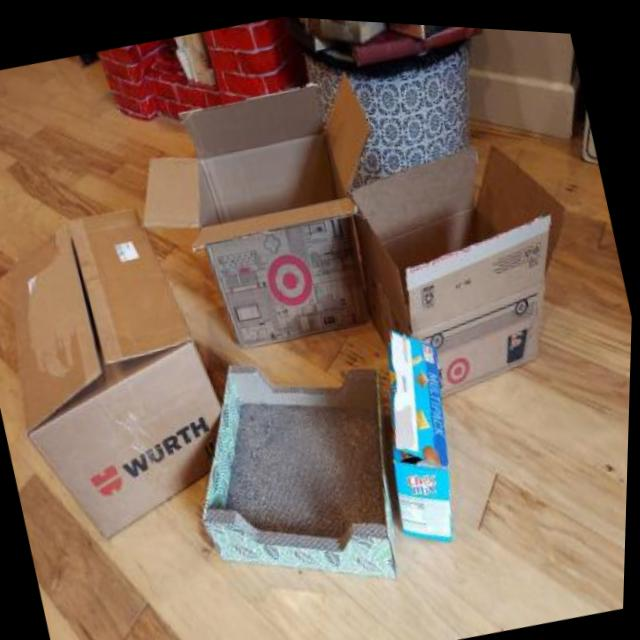box: (109, 47, 427, 386), (0, 186, 268, 577), (326, 103, 622, 440), (137, 310, 441, 626), (348, 311, 497, 557)
